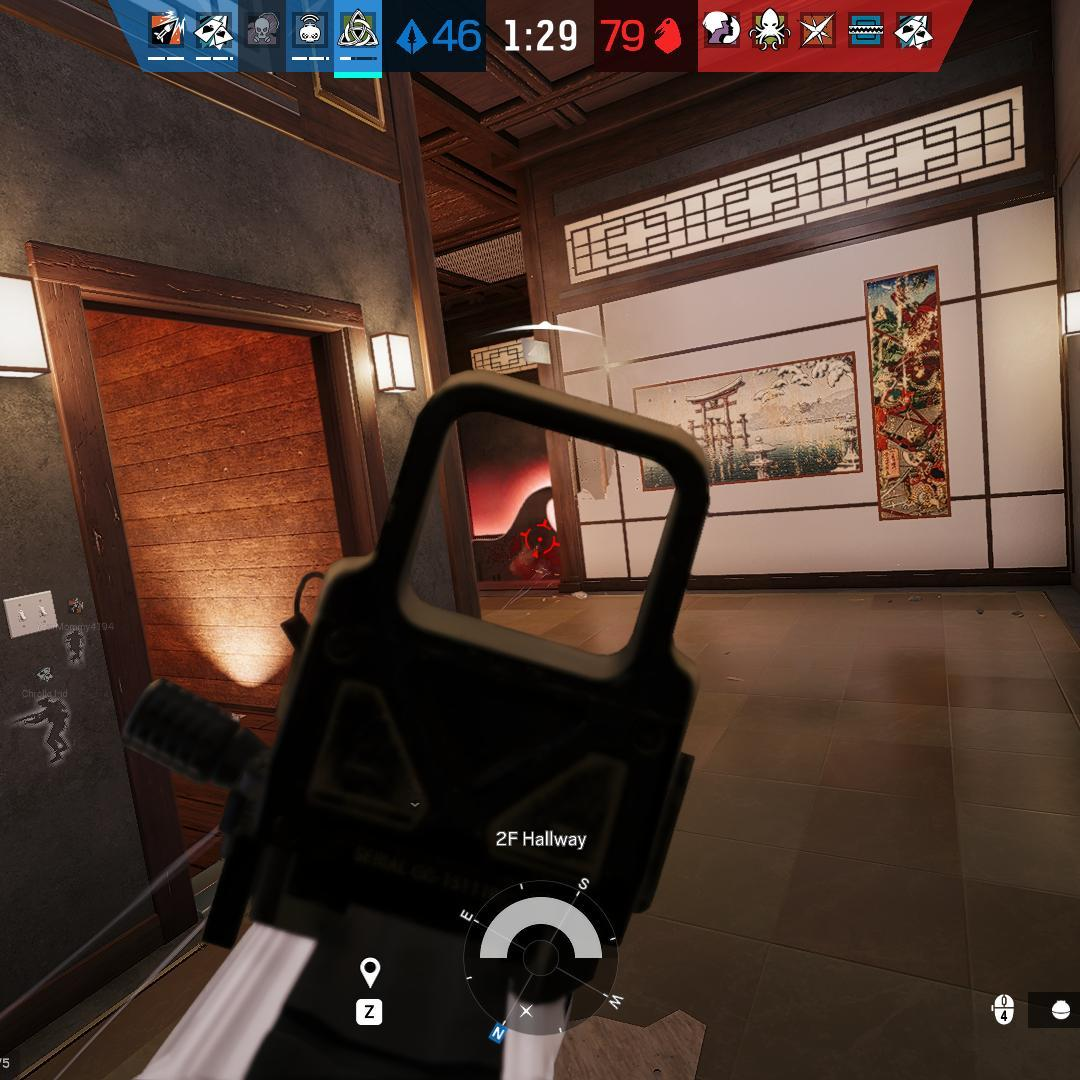Friend_label: (38, 596, 116, 633), (20, 664, 69, 699)
